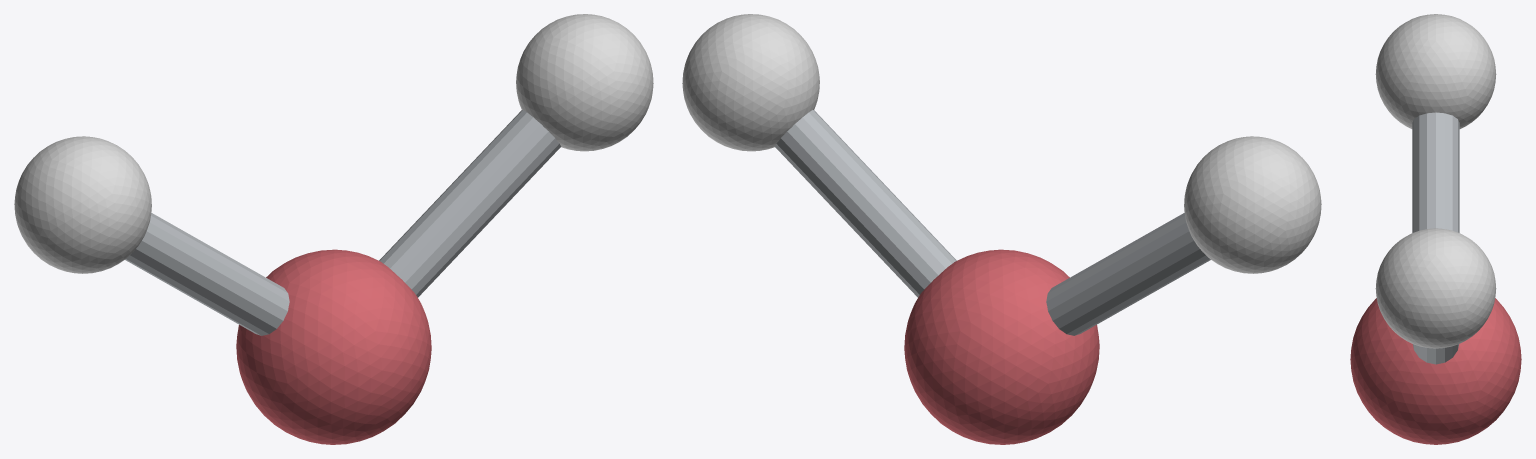
The model's file is agua_H2O.glb.
3 renders of one model, left to right at view 1: azimuth 30°, elevation 25°; view 2: azimuth 150°, elevation 25°; view 3: azimuth 270°, elevation 25°, orthographic. The views are drawn at different scales.
Visible parts, largest first — view 1: O_0, H_1, H_2, bond_0_2_0, bond_0_1_0; view 2: O_0, H_1, H_2, bond_0_2_0, bond_0_1_0; view 3: O_0, H_2, H_1, bond_0_1_0, bond_0_2_0.
Part boxes in pixels (x1,y1,x2,y2): O_0: (236, 249, 431, 444); H_1: (14, 136, 151, 273); H_2: (516, 14, 653, 151); bond_0_2_0: (379, 110, 561, 297); bond_0_1_0: (125, 213, 289, 335); O_0: (904, 249, 1099, 444); H_1: (1184, 136, 1321, 273); H_2: (682, 14, 819, 151); bond_0_2_0: (774, 110, 956, 297); bond_0_1_0: (1046, 213, 1210, 335); O_0: (1350, 298, 1521, 444); H_2: (1375, 228, 1496, 348); H_1: (1375, 14, 1496, 128); bond_0_1_0: (1412, 112, 1459, 232); bond_0_2_0: (1413, 344, 1458, 364).
Bounding box in the file's own units: 1.98 × 1.08 × 0.54.
